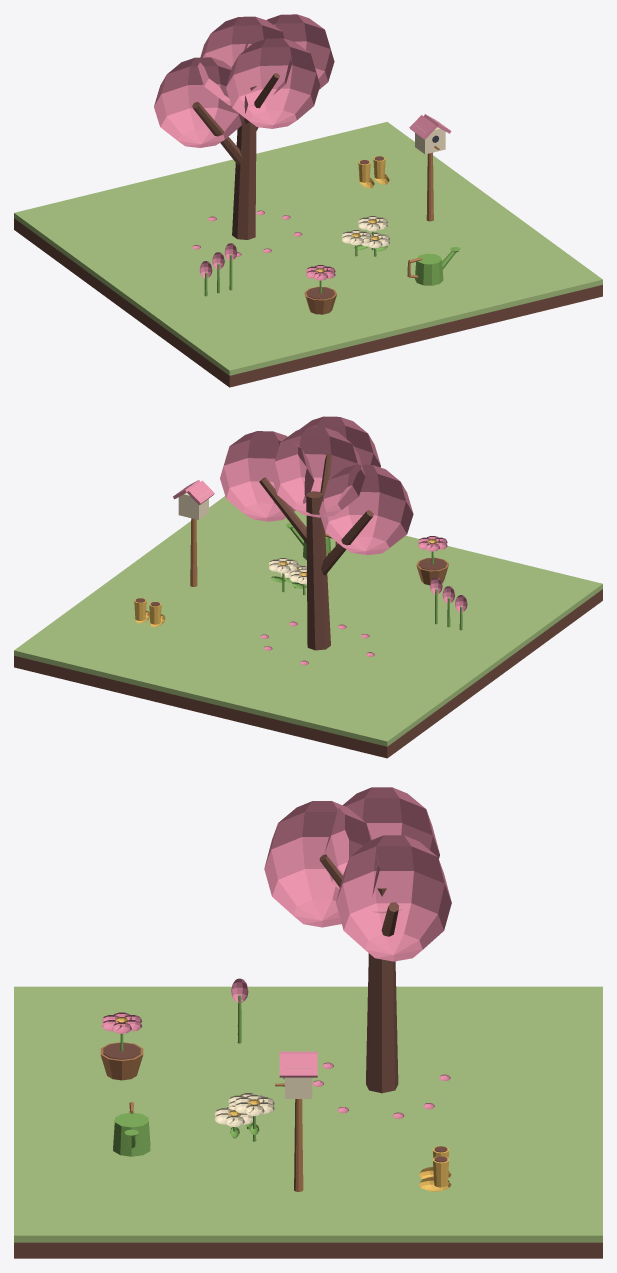
File: turning-seasons-spring-garden-scene-bb636f22-starter-scene__2173.glb
The picture shows the model from 3 angles, top to bottom: view 1: azimuth 30°, elevation 25°; view 2: azimuth 150°, elevation 25°; view 3: azimuth 270°, elevation 25°; orthographic projection. The views are drawn at different scales.
Visible parts, largest first — view 1: 000-spring-ground-tile/1, 000-spring-ground-tile/0, 001-spring-orchard-tree/4, 001-spring-orchard-tree/1, 001-spring-orchard-tree/0, 001-spring-orchard-tree/2, 001-spring-orchard-tree/3, 005-watering-can/0, 006-birdhouse/1, 006-birdhouse/2; view 2: 000-spring-ground-tile/1, 000-spring-ground-tile/0, 001-spring-orchard-tree/1, 001-spring-orchard-tree/2, 001-spring-orchard-tree/0, 001-spring-orchard-tree/3, 001-spring-orchard-tree/4, 006-birdhouse/1, 006-birdhouse/2, 006-birdhouse/0; view 3: 000-spring-ground-tile/1, 001-spring-orchard-tree/3, 000-spring-ground-tile/0, 001-spring-orchard-tree/4, 001-spring-orchard-tree/0, 001-spring-orchard-tree/2, 005-watering-can/0, 006-birdhouse/2, 007-sprout-planter/0, 006-birdhouse/0, 003-daisy-patch/4, 004-rain-boots/2 (+2 smaller).
Boxes of the visible parts, bbox=[...] form: 000-spring-ground-tile/1: bbox=[14, 122, 602, 375]; 000-spring-ground-tile/0: bbox=[14, 218, 602, 387]; 001-spring-orchard-tree/4: bbox=[226, 38, 320, 128]; 001-spring-orchard-tree/1: bbox=[154, 57, 248, 147]; 001-spring-orchard-tree/0: bbox=[192, 73, 279, 239]; 001-spring-orchard-tree/2: bbox=[197, 16, 291, 106]; 001-spring-orchard-tree/3: bbox=[244, 14, 334, 89]; 005-watering-can/0: bbox=[415, 253, 443, 285]; 006-birdhouse/1: bbox=[415, 120, 445, 154]; 006-birdhouse/2: bbox=[409, 114, 451, 139]; 000-spring-ground-tile/1: bbox=[14, 496, 602, 746]; 000-spring-ground-tile/0: bbox=[14, 589, 602, 758]; 001-spring-orchard-tree/1: bbox=[319, 464, 413, 555]; 001-spring-orchard-tree/2: bbox=[271, 427, 365, 517]; 001-spring-orchard-tree/0: bbox=[259, 454, 373, 650]; 001-spring-orchard-tree/3: bbox=[220, 431, 314, 521]; 001-spring-orchard-tree/4: bbox=[299, 416, 380, 467]; 006-birdhouse/1: bbox=[178, 486, 208, 519]; 006-birdhouse/2: bbox=[173, 480, 214, 505]; 006-birdhouse/0: bbox=[190, 518, 197, 586]; 000-spring-ground-tile/1: bbox=[14, 986, 602, 1242]; 001-spring-orchard-tree/3: bbox=[336, 835, 451, 961]; 000-spring-ground-tile/0: bbox=[14, 1242, 602, 1258]; 001-spring-orchard-tree/4: bbox=[264, 801, 379, 927]; 001-spring-orchard-tree/0: bbox=[319, 854, 398, 1093]; 001-spring-orchard-tree/2: bbox=[324, 787, 439, 913]; 005-watering-can/0: bbox=[113, 1113, 150, 1156]; 006-birdhouse/2: bbox=[279, 1051, 317, 1077]; 007-sprout-planter/0: bbox=[100, 1042, 143, 1080]; 006-birdhouse/0: bbox=[294, 1099, 303, 1191]; 003-daisy-patch/4: bbox=[234, 1094, 274, 1116]; 004-rain-boots/2: bbox=[419, 1156, 451, 1191].
Bounding box in the file's own units: 6 × 3.57 × 6.
